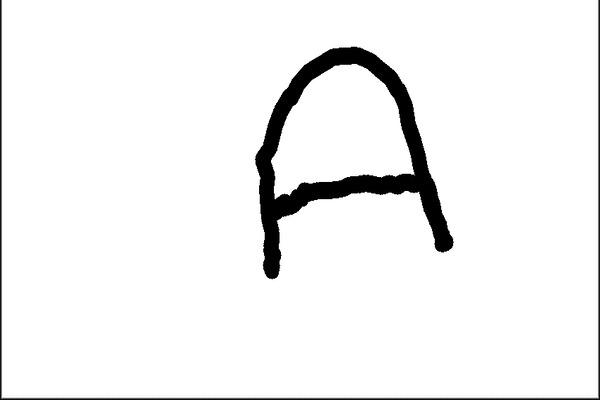A: (227, 32, 464, 286)
